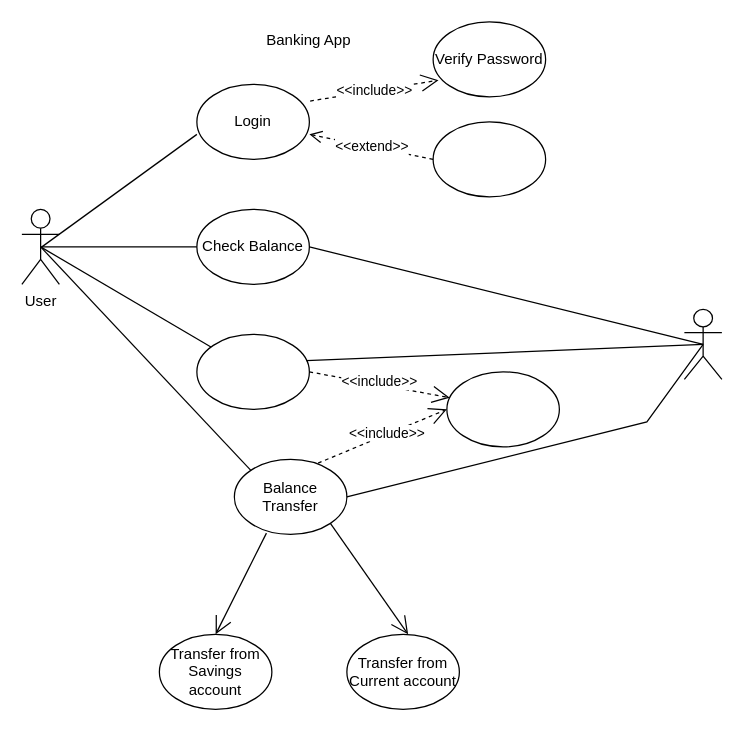
Some shapes in this 744 by 731 pixel diagram are drawn without their labels. Here are the shapes that lost their labels. From the top down, the centre of each, then its label:
(489,159): Display Login Error
(702,343): ATM
(252,371): Withdraw Cash
(502,409): Very Sufficient Fund
